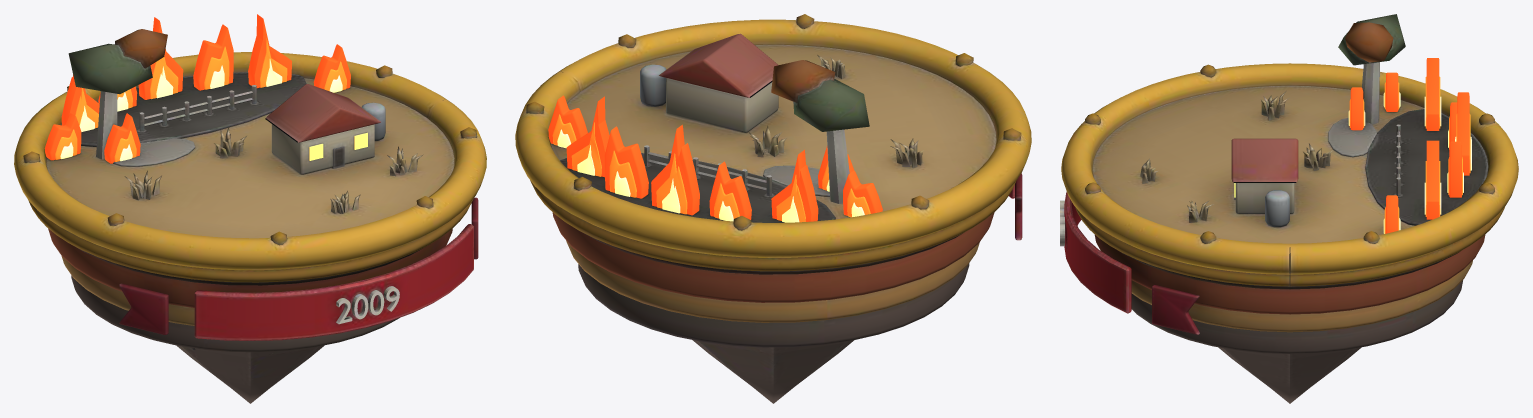
Rendered from badge_black_saturday.glb.
3 renders of one model, left to right at view 1: azimuth 30°, elevation 25°; view 2: azimuth 150°, elevation 25°; view 3: azimuth 270°, elevation 25°, orthographic. The views are drawn at different scales.
Parts seen in each view (by area): view 1: badge_black_saturday, badge_black_saturday_glow; view 2: badge_black_saturday, badge_black_saturday_glow; view 3: badge_black_saturday, badge_black_saturday_glow.
Boxes of the visible parts, left/top/right/bottom form: badge_black_saturday: left=14, top=29, right=486, bottom=403; badge_black_saturday_glow: left=44, top=14, right=367, bottom=163; badge_black_saturday: left=515, top=14, right=1031, bottom=403; badge_black_saturday_glow: left=548, top=95, right=882, bottom=222; badge_black_saturday: left=1060, top=14, right=1518, bottom=403; badge_black_saturday_glow: left=1234, top=58, right=1471, bottom=233.
Size of the model in its own units: 2.19 by 1.85 by 2.2.
Materials: 5 (1 with a texture image).
